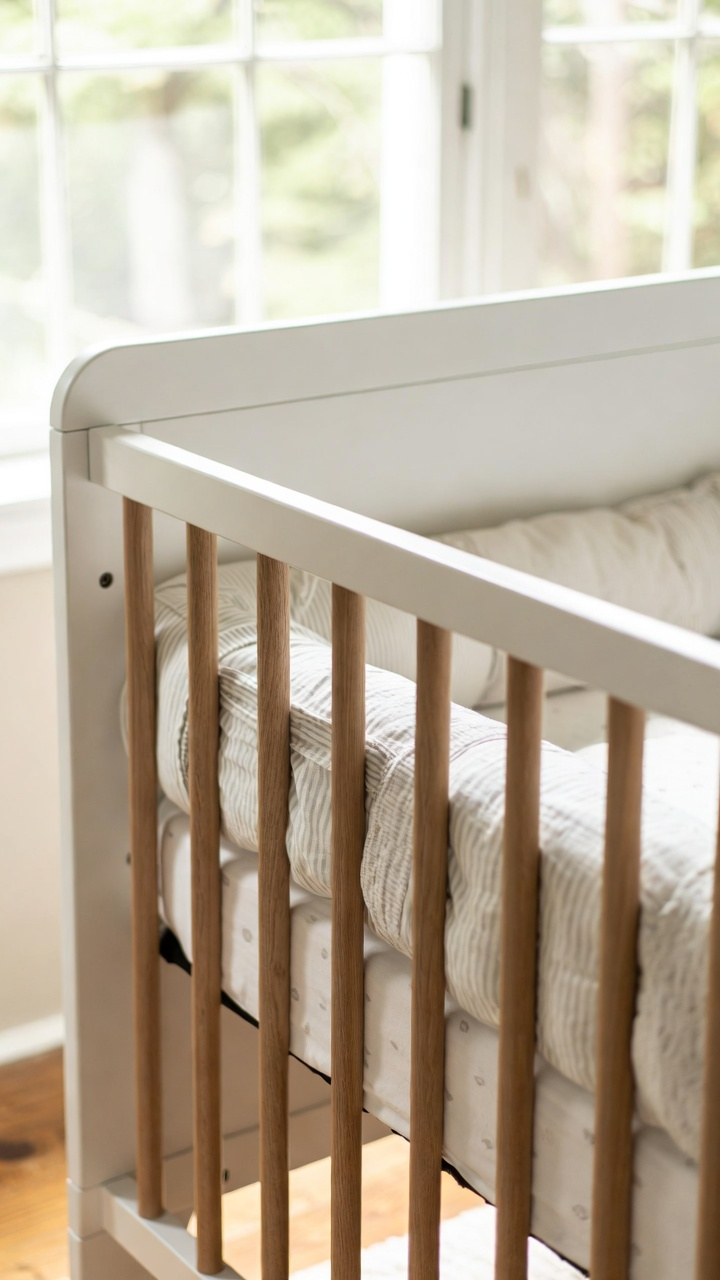crib: (52, 273, 719, 1279)
